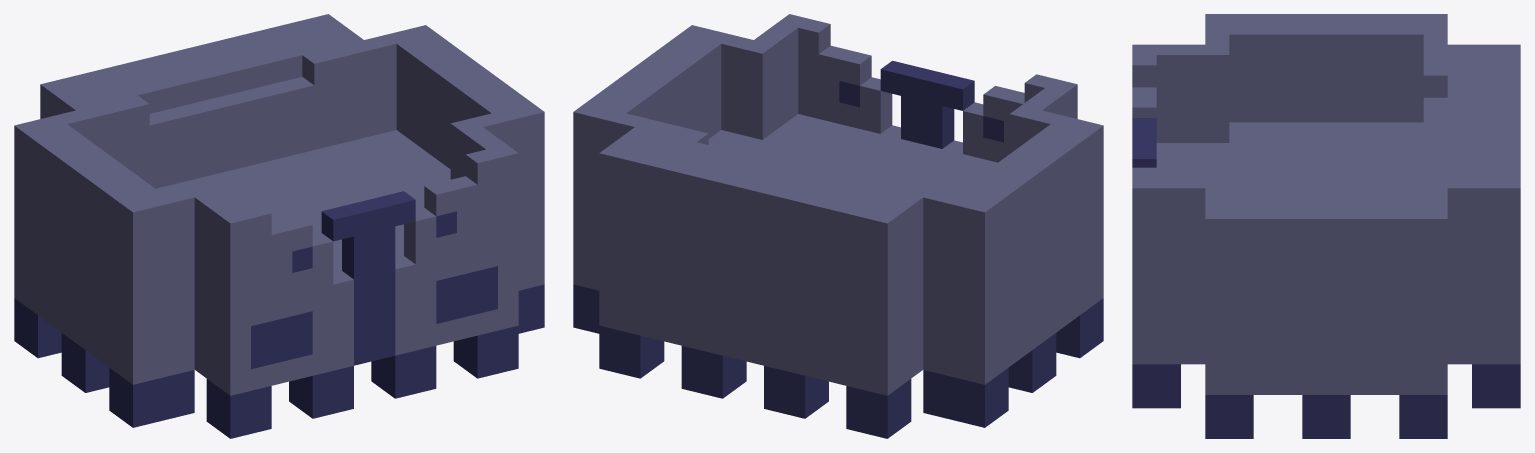
3 views of the same model, side by side, from view 1: azimuth 30°, elevation 25°; view 2: azimuth 150°, elevation 25°; view 3: azimuth 270°, elevation 25° (orthographic). The views are drawn at different scales.
Parts seen in each view (by area): view 1: 31; view 2: 31; view 3: 31.
Boxes of the visible parts, x1=… form: 31: x1=14, y1=14, x2=544, y2=438; 31: x1=573, y1=14, x2=1103, y2=438; 31: x1=1132, y1=14, x2=1520, y2=438.
Size of the model in its own units: 200 by 100 by 160.
Materials: 1 (1 with a texture image).
